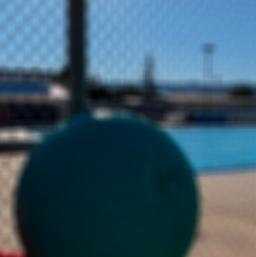algae: (11, 110, 203, 257)
